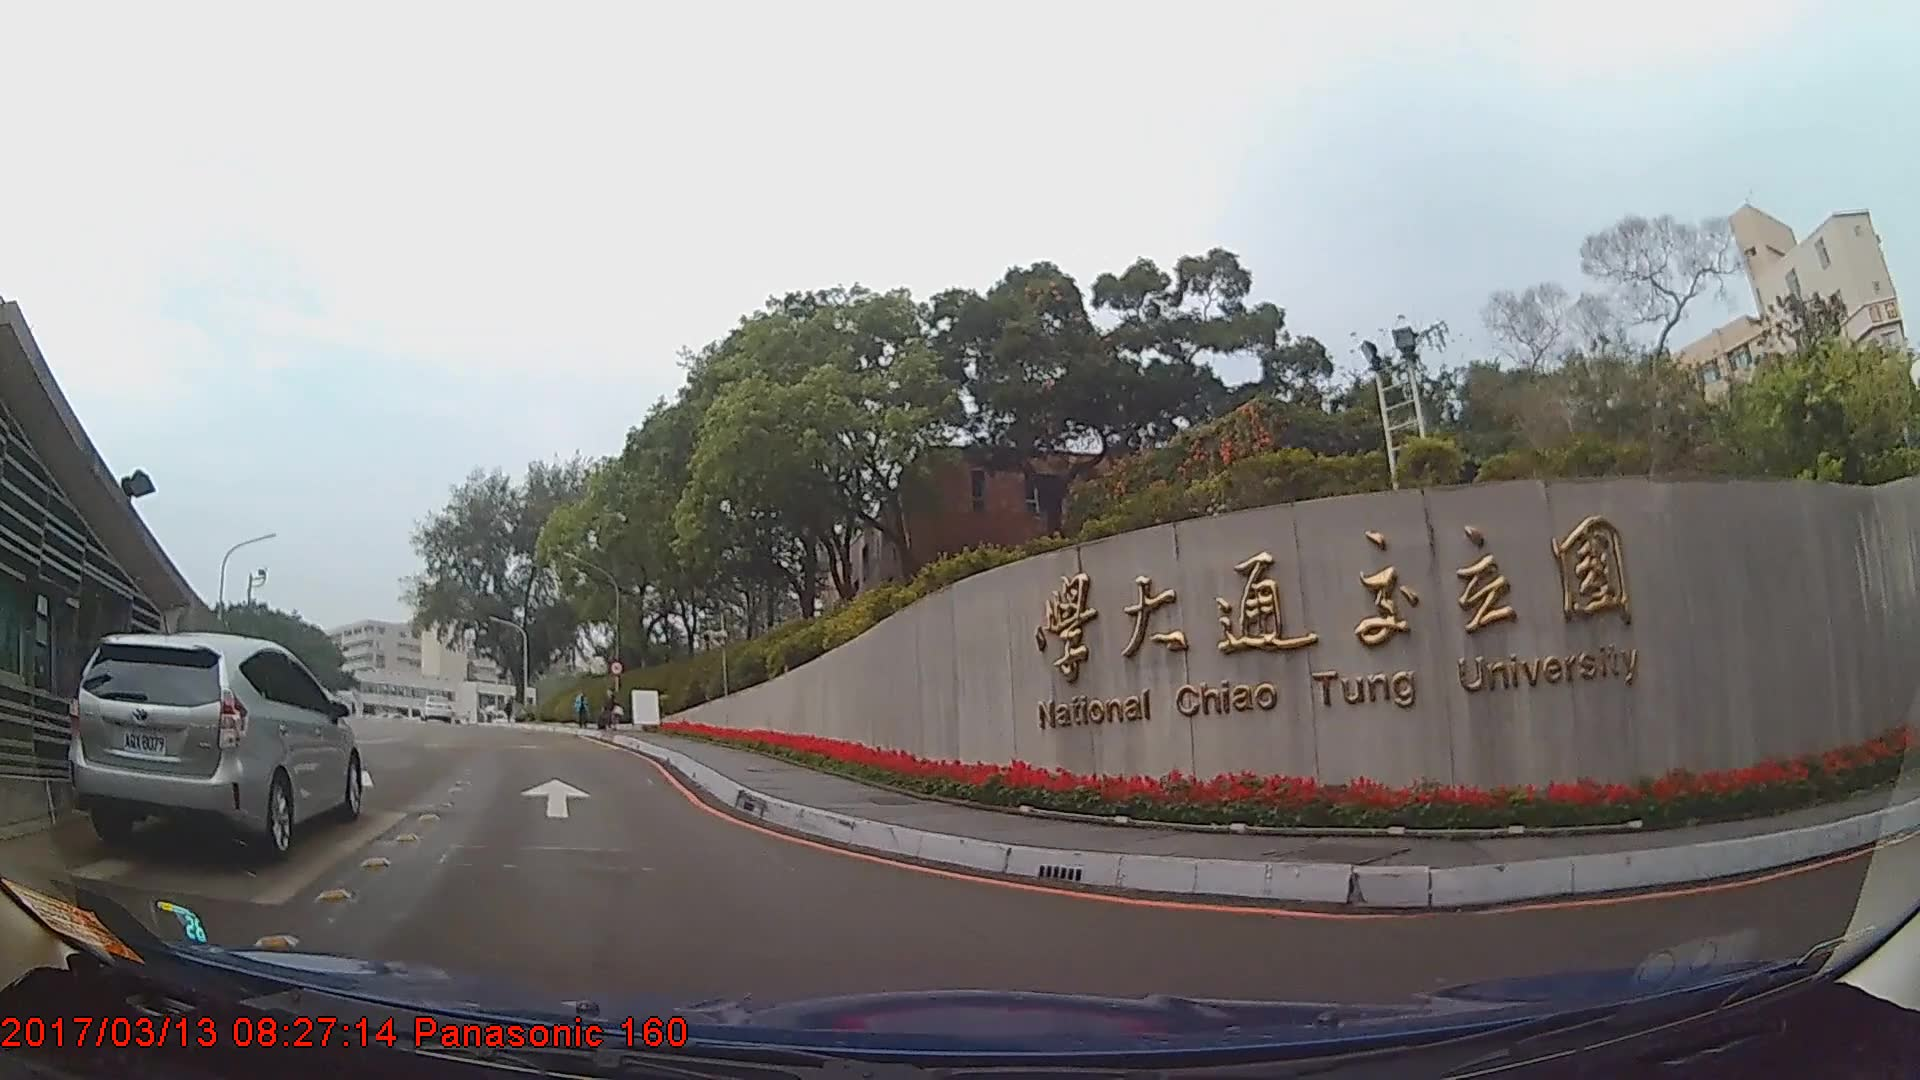vehicle: (66, 629, 361, 855), (415, 691, 452, 719)
